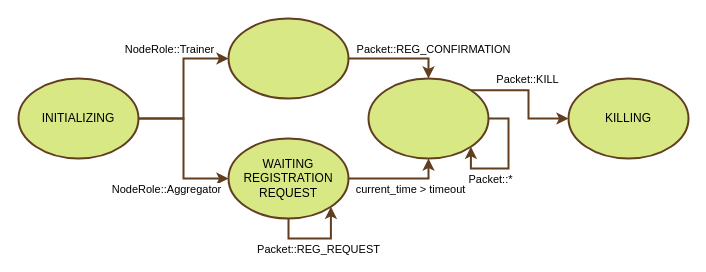
This 706x272 diagram has some shape labels left out. The centre of each missing label's shape, as x and y in pixels:
RUNNING: point 428,118
WAITING REGISTRATION CONFIRMATION: point 288,58
